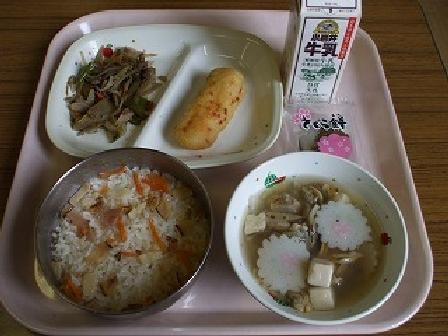Milk: (273, 0, 373, 104)
Soups: (230, 158, 402, 307)
pastry: (163, 52, 251, 149)
plov: (49, 143, 221, 306)
salad with sauce: (63, 35, 165, 134)
